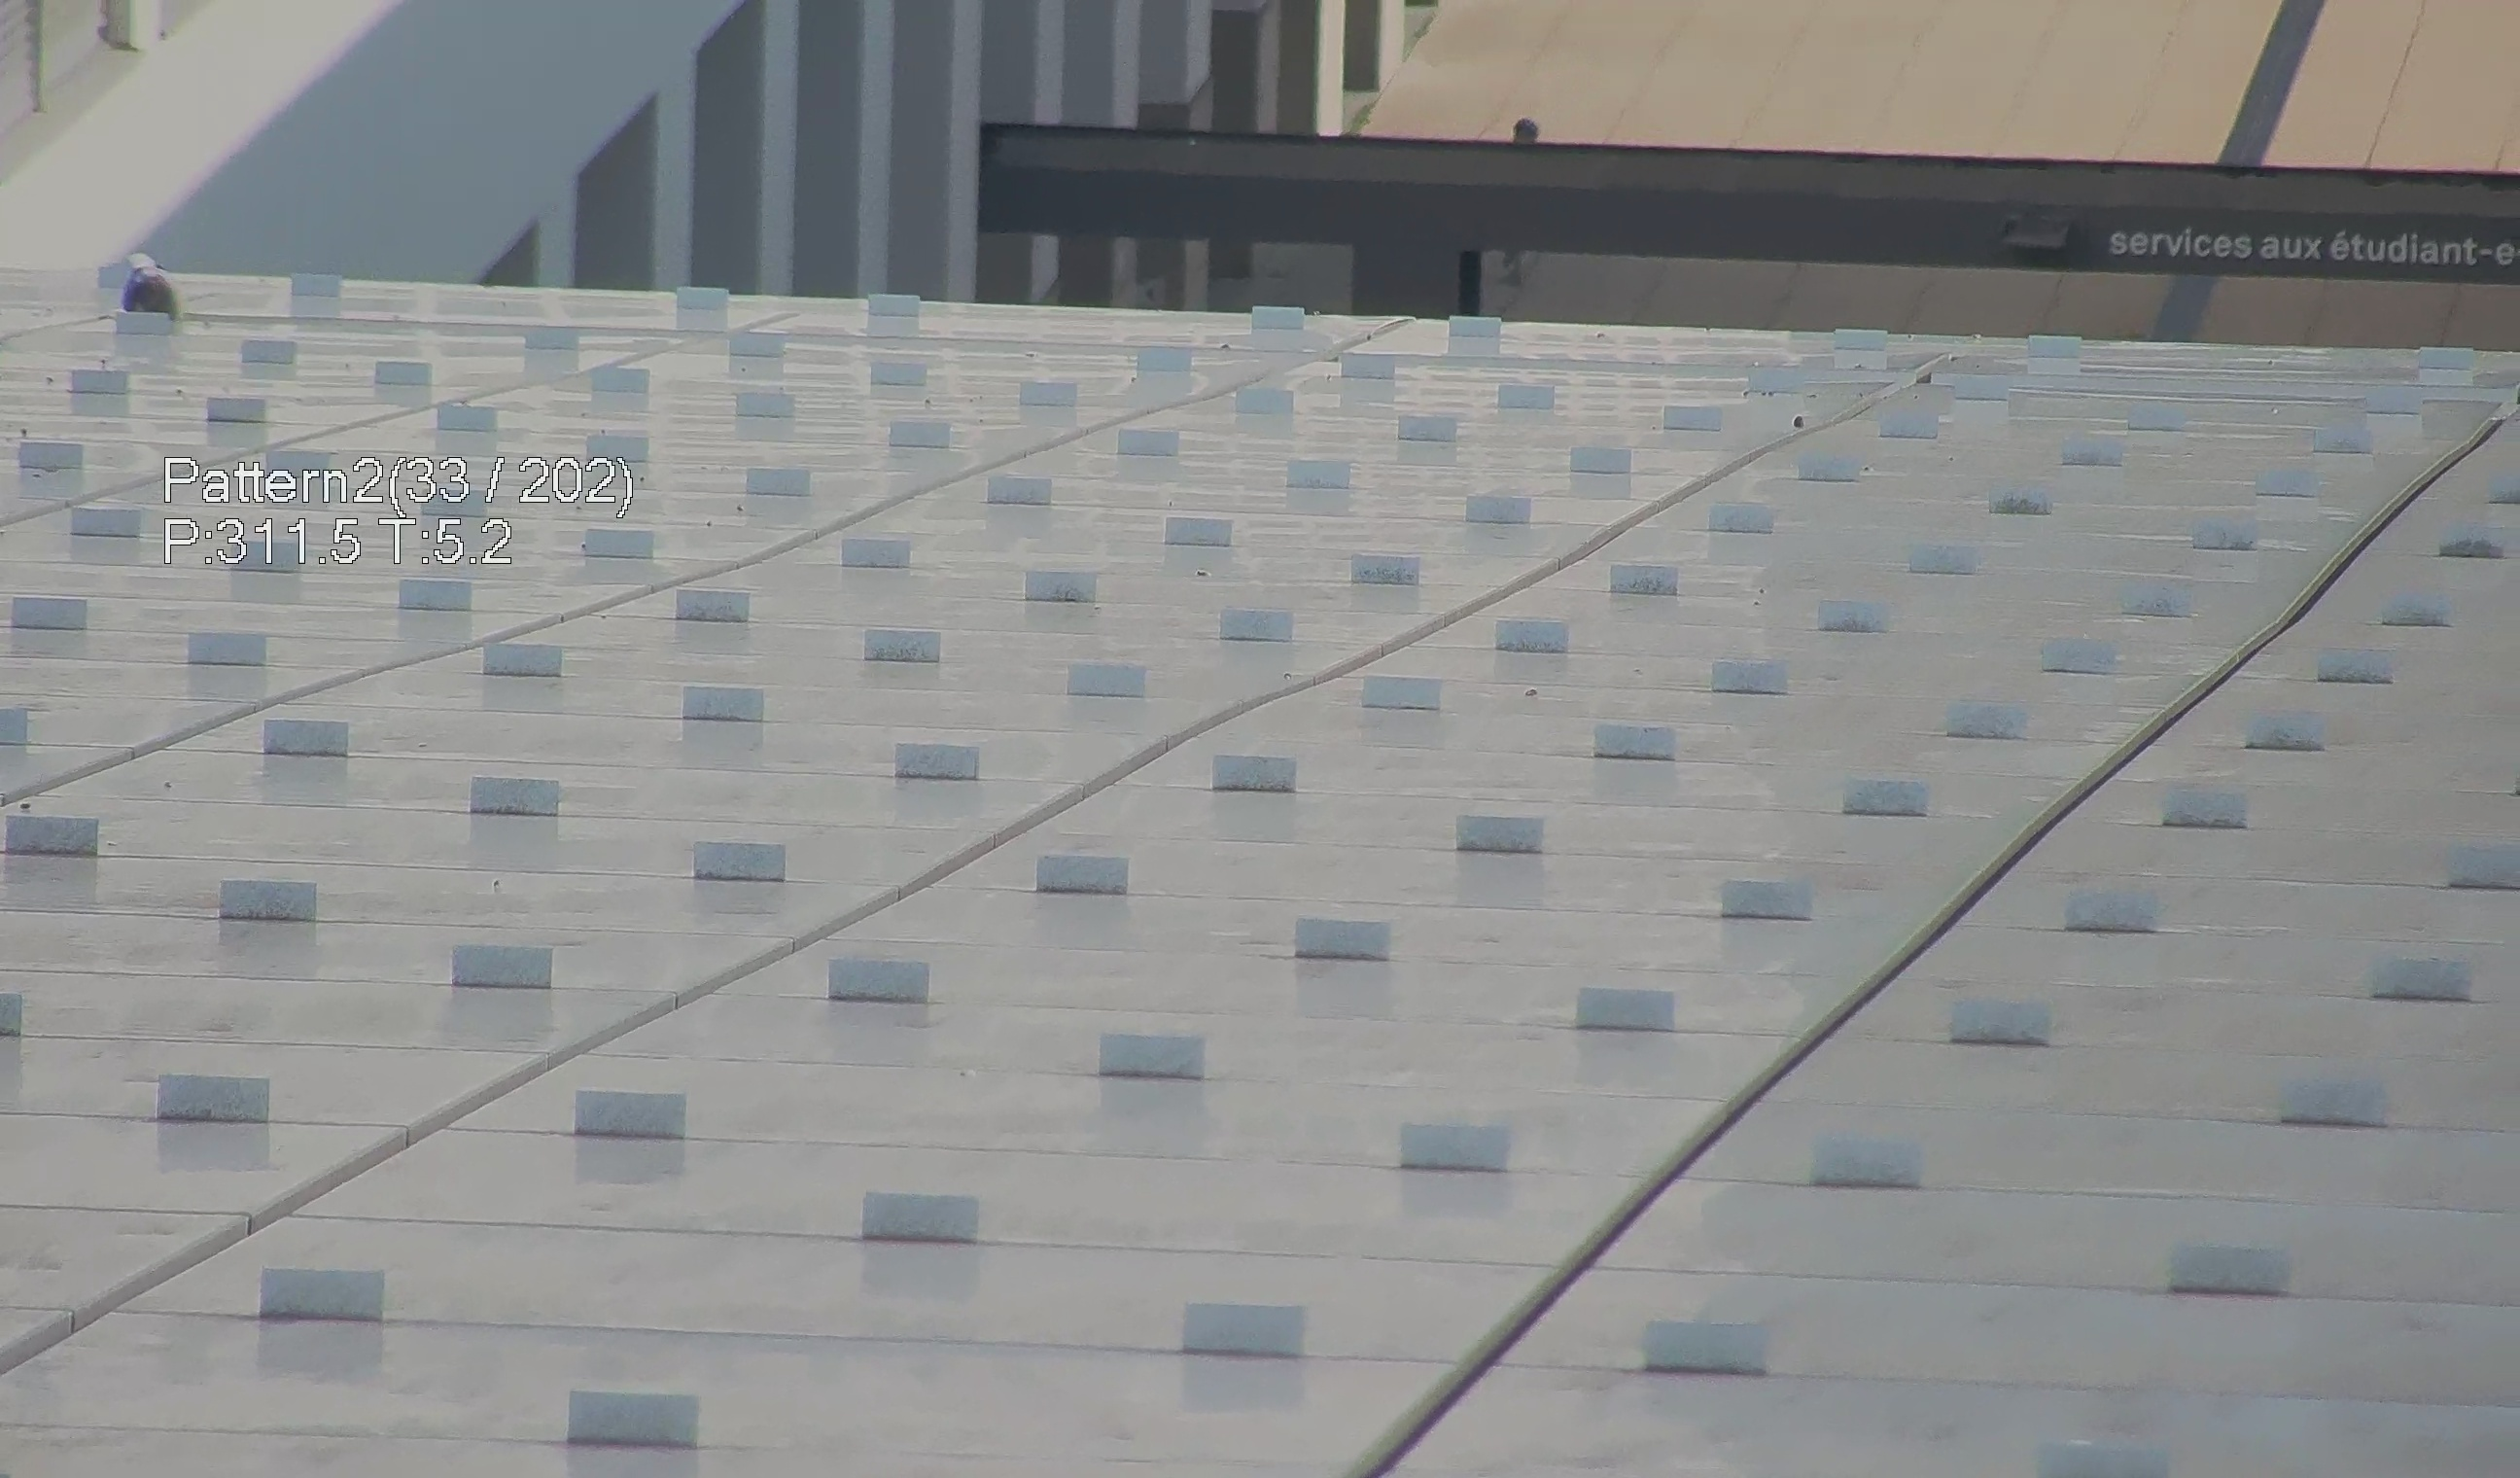Pigeon: (116, 239, 190, 334)
